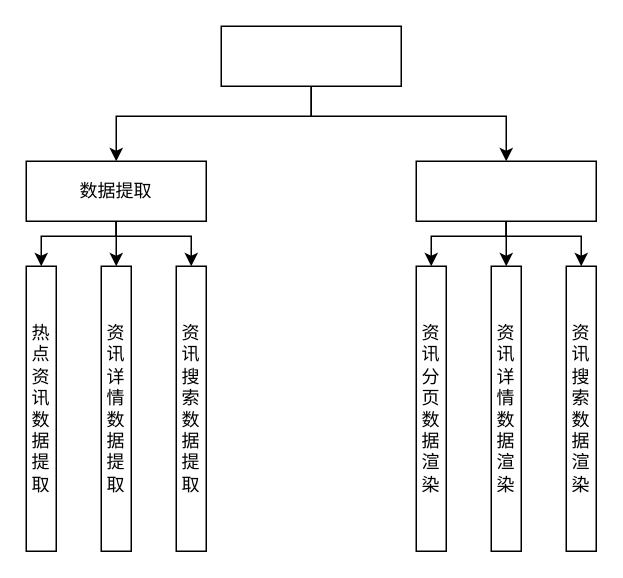
The diagram is 623 pixels wide and 578 high, and some of its shapes have lost their labels. Here are the shapes that lost their labels. From the top down, the box of each, then its label:
(220, 25, 401, 86): 数据展示模块
(415, 160, 596, 221): 数据渲染
